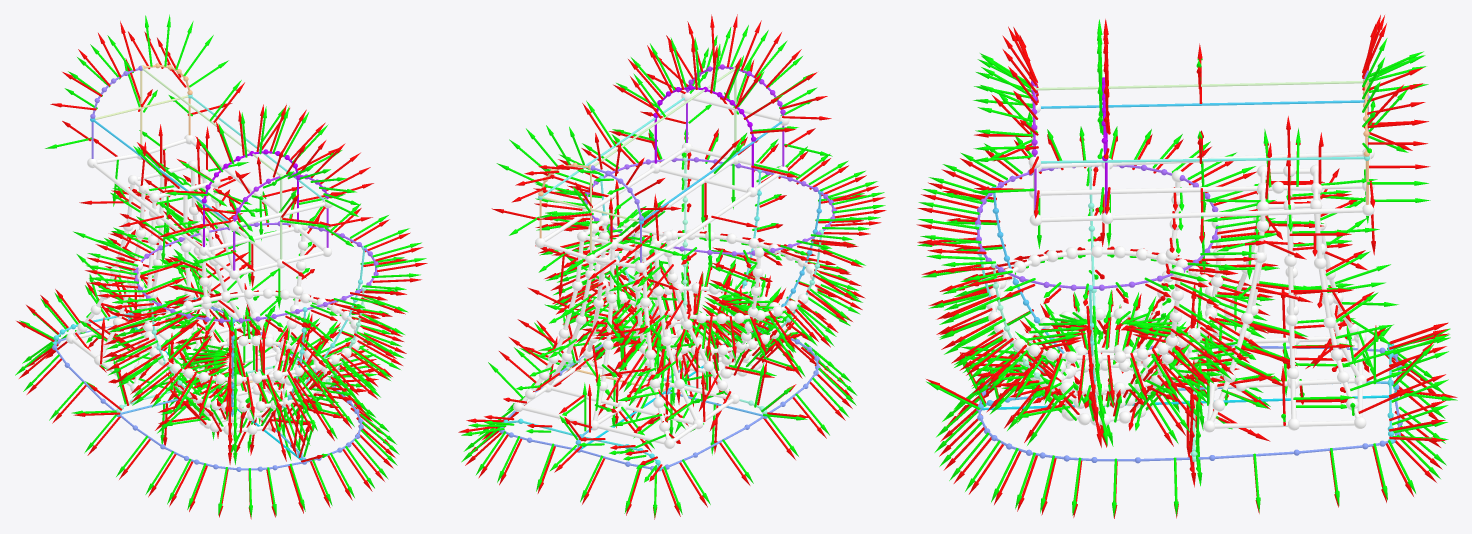
Rendered from t2f_blender.gltf.
3 renders of one model, left to right at view 1: azimuth 30°, elevation 25°; view 2: azimuth 150°, elevation 25°; view 3: azimuth 270°, elevation 25°, orthographic. The views are drawn at different scales.
Bounding box in the file's own units: 0.6618 × 0.7562 × 0.8634.
